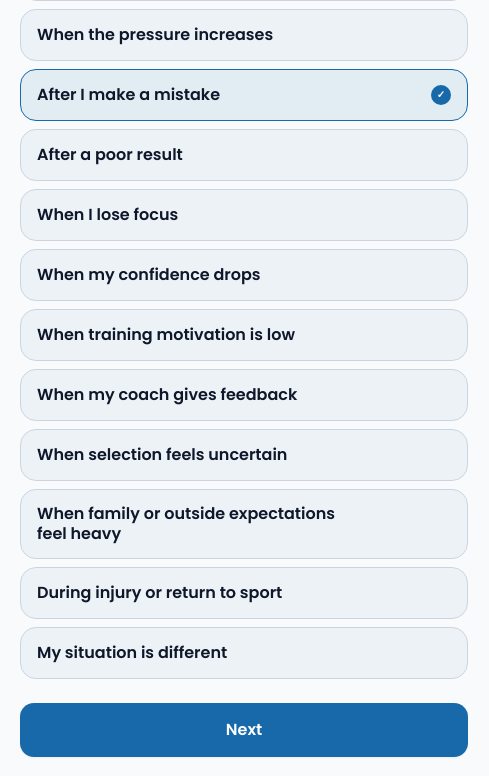
Test case: changing the situation › keeping the current situation does not change which questions are asked
The width and height of the screenshot is (489, 776).
(page scrolled)
Click the button "Next" at (244, 730), box [20,703,468,757]
(page scrolled)
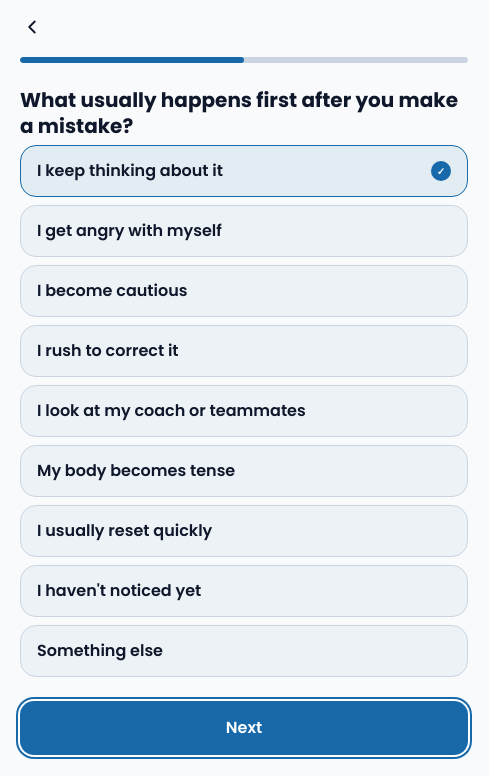
Check: the heading "What usually happens first after you make a mistake?" is shown, box [20,87,468,139]
